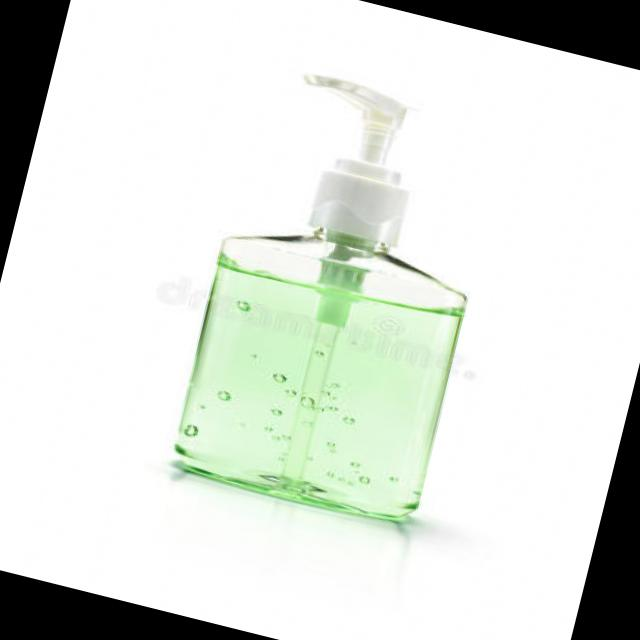sanitizer: (152, 55, 526, 537)
